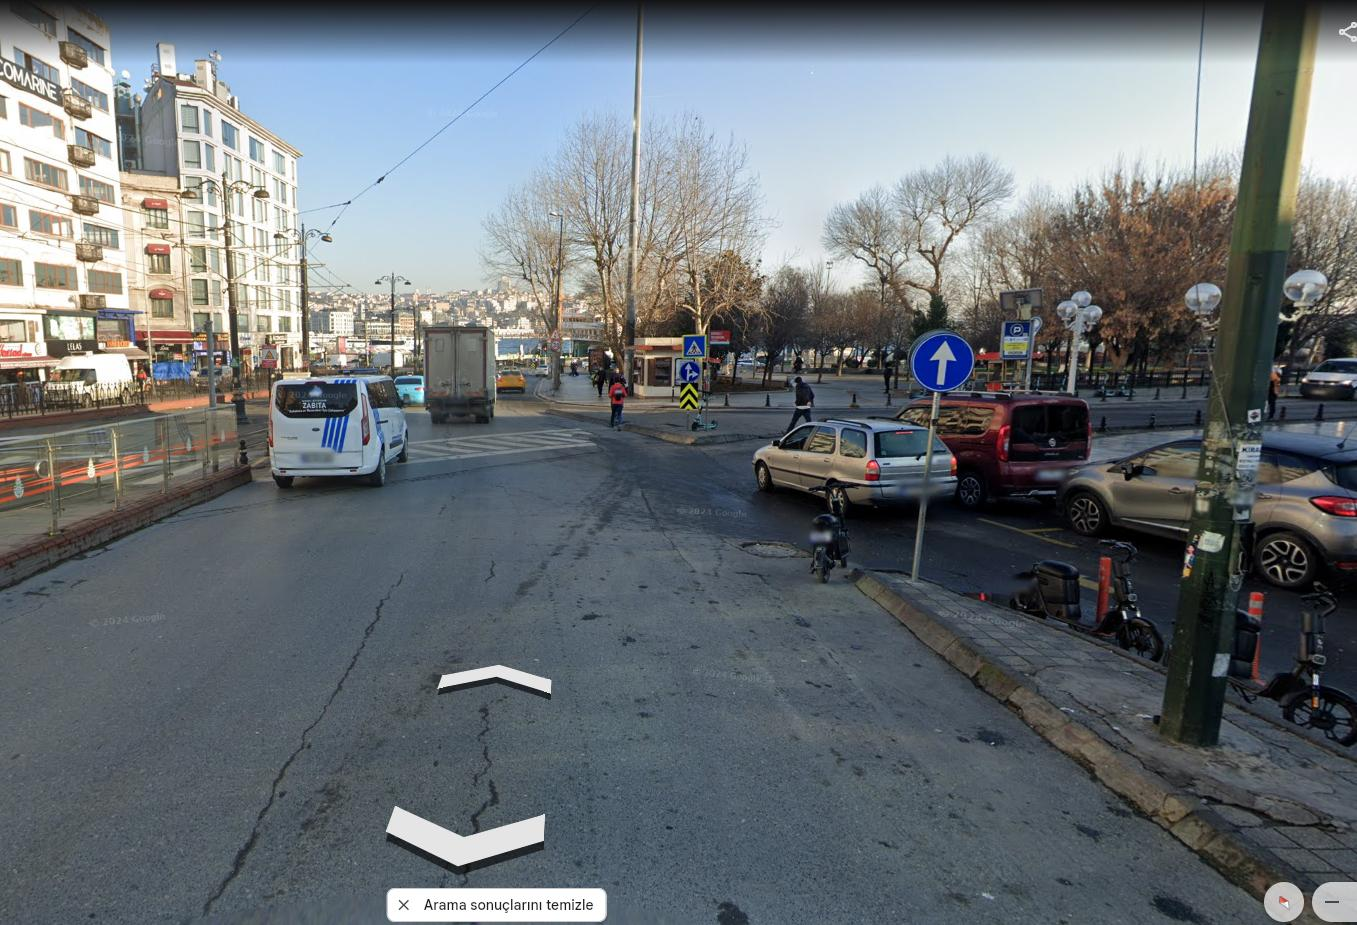forward: (913, 336, 974, 390)
